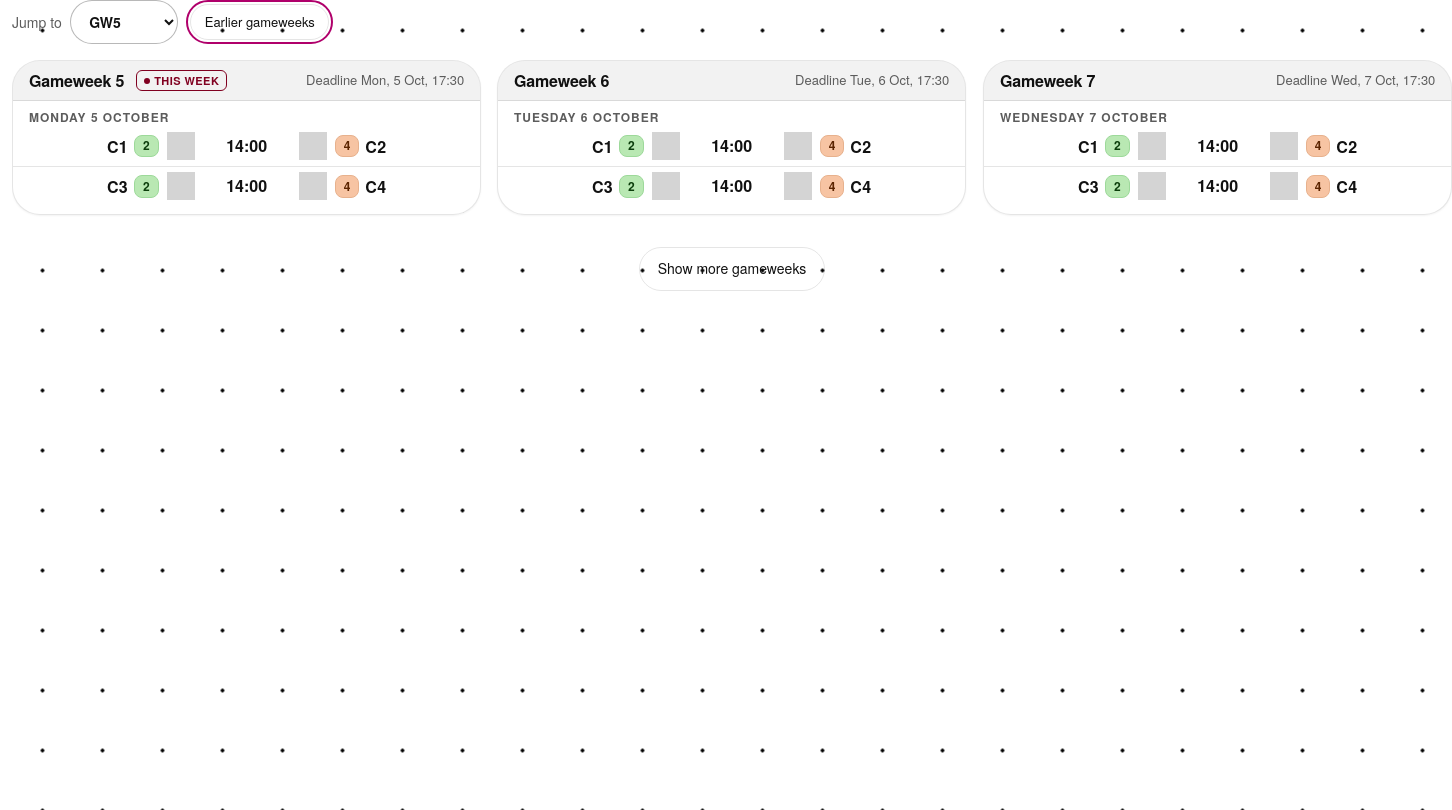
it: FixtureFeed › keeps keyboard focus in the feed when the Earlier button goes away
(page scrolled)
Click the button "Earlier gameweeks": x=260, y=22 [190,4,329,40]
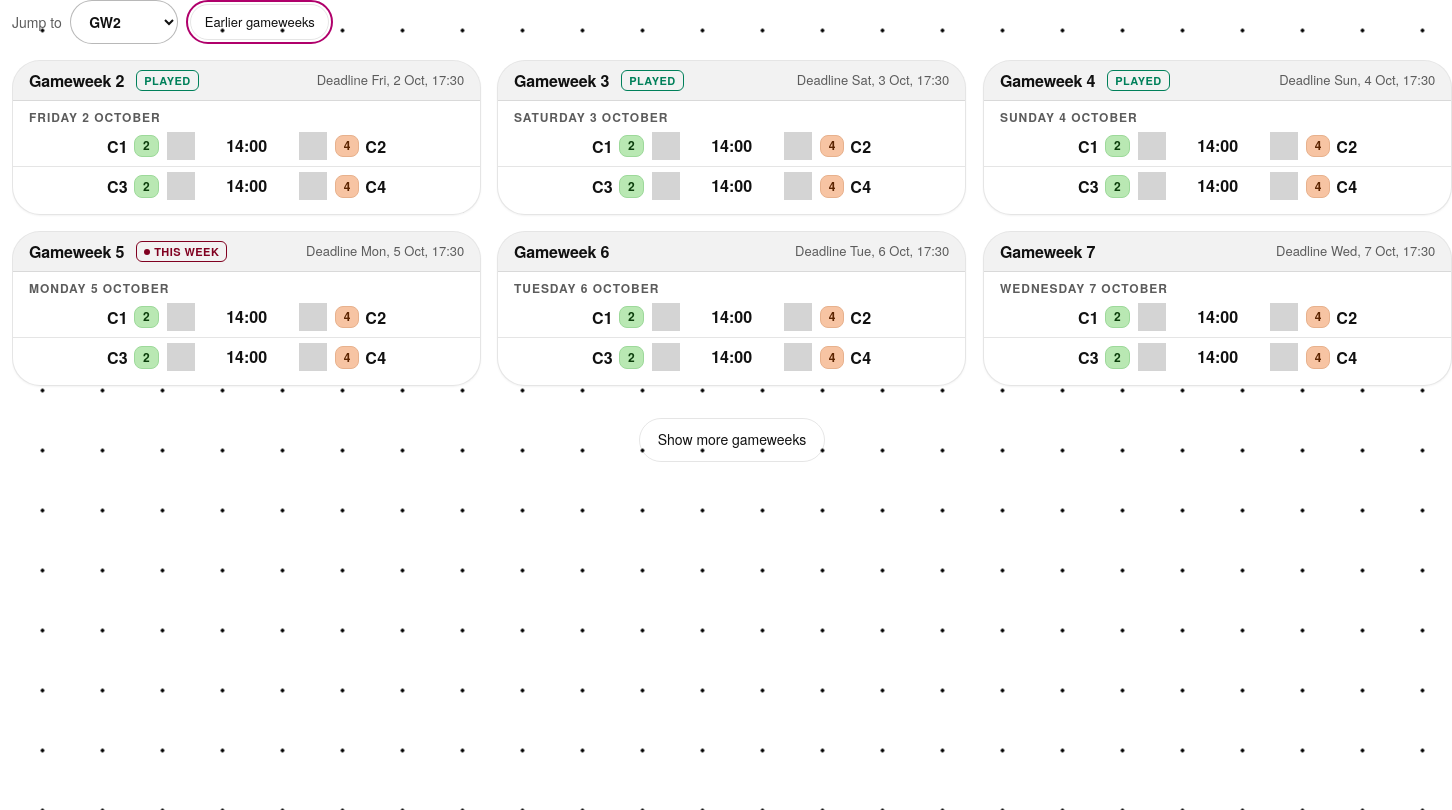
Click the button "Earlier gameweeks": x=260, y=22 [190,4,329,40]
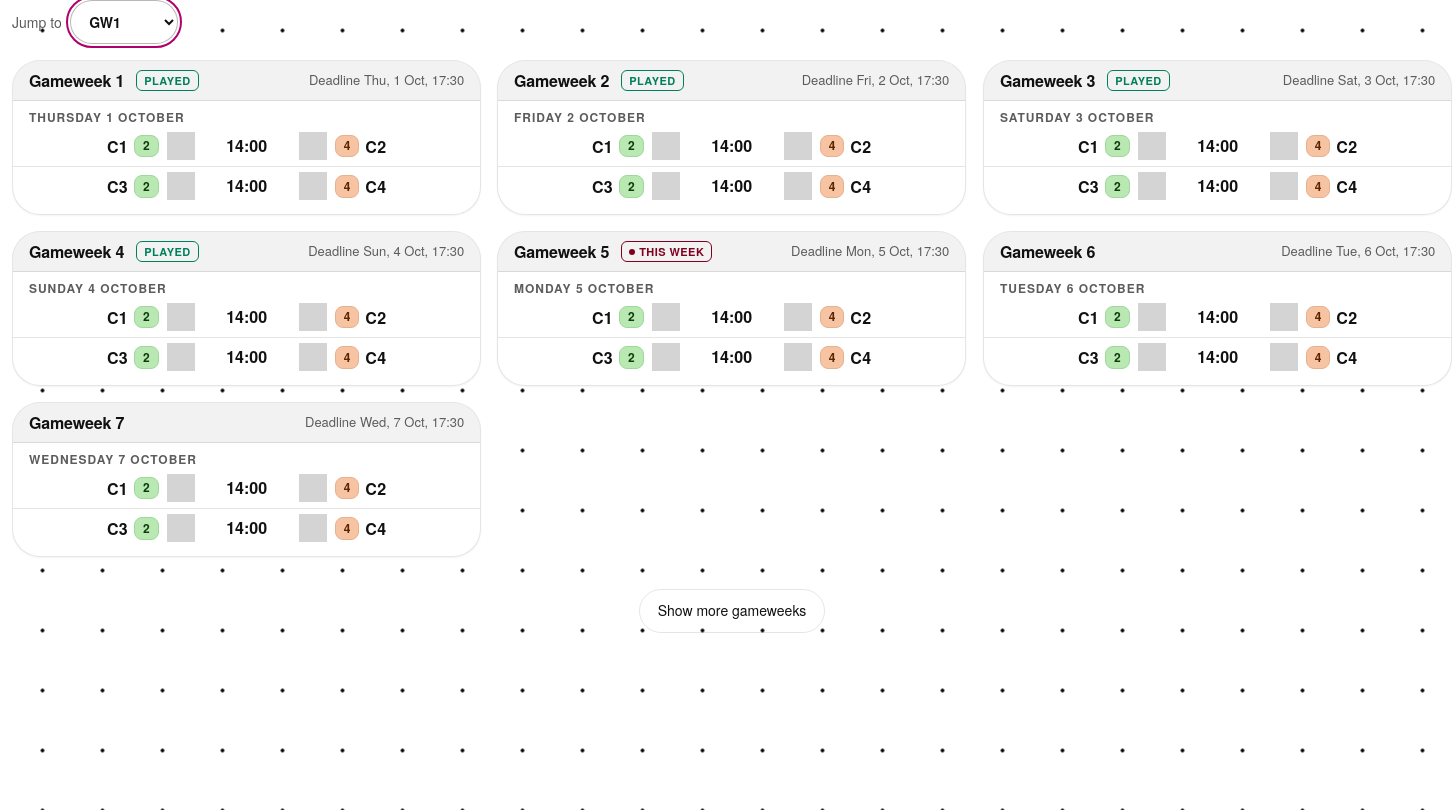
Check: the button "Earlier gameweeks" is gone
